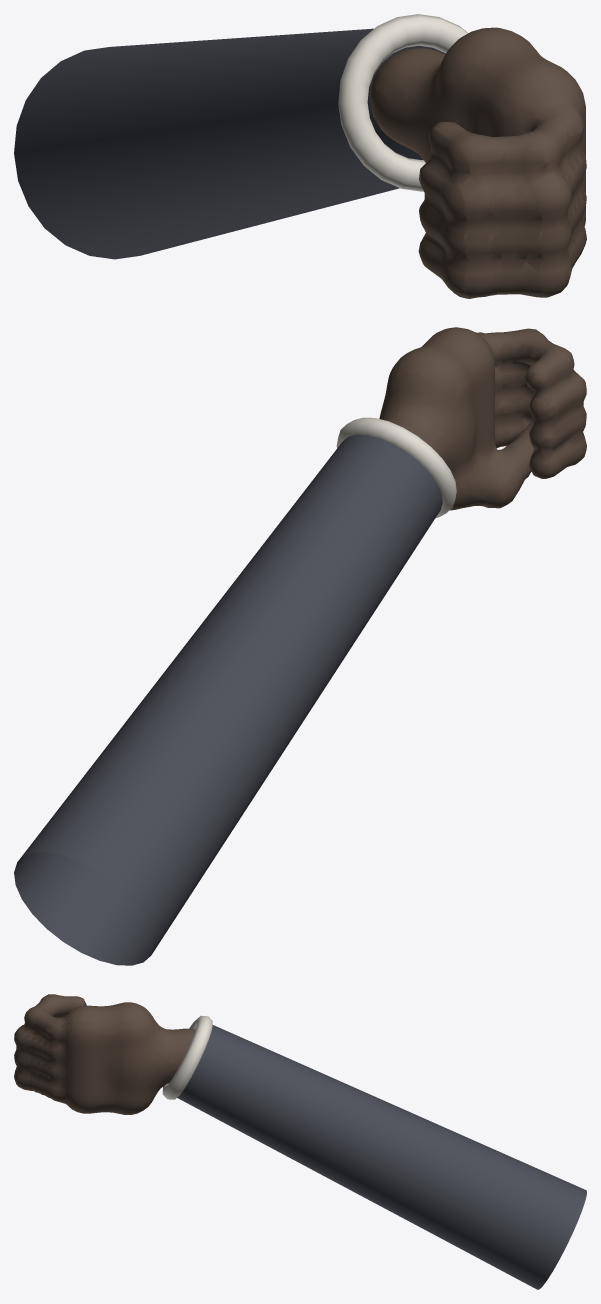
Rendered from fp_arm_right.fbx.
3 renders of one model, top to bottom at view 1: azimuth 30°, elevation 25°; view 2: azimuth 150°, elevation 25°; view 3: azimuth 270°, elevation 25°, orthographic. The views are drawn at different scales.
Visible parts, largest first — view 1: FPR_Sleeve, FPR_Glove, FPR_SleeveCuff; view 2: FPR_Sleeve, FPR_Glove, FPR_SleeveCuff; view 3: FPR_Sleeve, FPR_Glove, FPR_SleeveCuff.
Part boxes in pixels (bbox=[...]): FPR_Sleeve: bbox=[14, 28, 445, 259]; FPR_Glove: bbox=[370, 27, 586, 298]; FPR_SleeveCuff: bbox=[338, 14, 467, 191]; FPR_Sleeve: bbox=[14, 434, 442, 965]; FPR_Glove: bbox=[379, 327, 586, 510]; FPR_SleeveCuff: bbox=[336, 417, 456, 518]; FPR_Sleeve: bbox=[177, 1025, 586, 1289]; FPR_Glove: bbox=[14, 994, 195, 1114]; FPR_SleeveCuff: bbox=[162, 1015, 212, 1099].
Bounding box in the file's own units: 0.1275 × 0.2525 × 0.4836.
